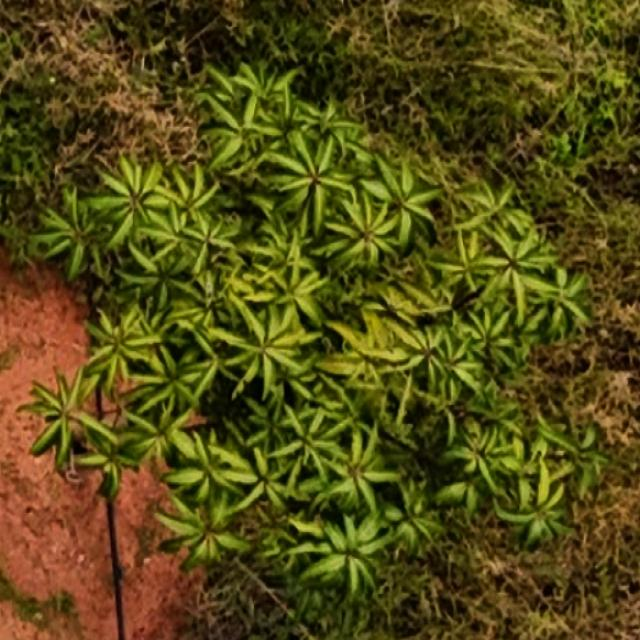mangoTree: (20, 52, 614, 629)
